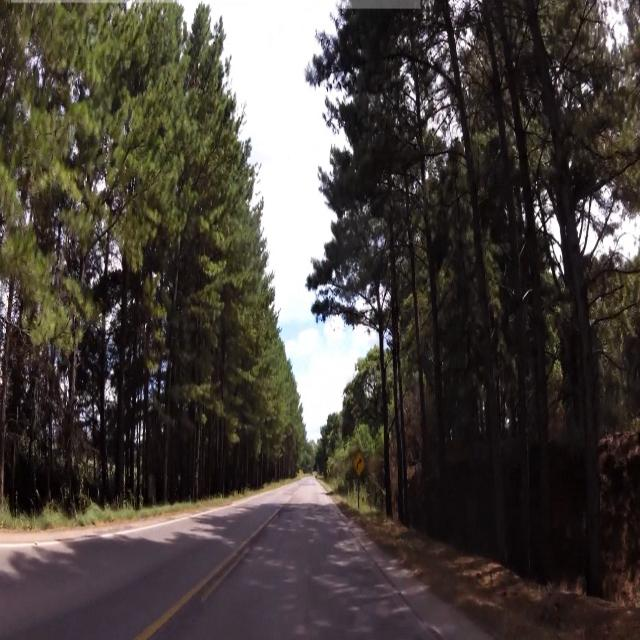A-2b: (353, 450, 366, 480)
